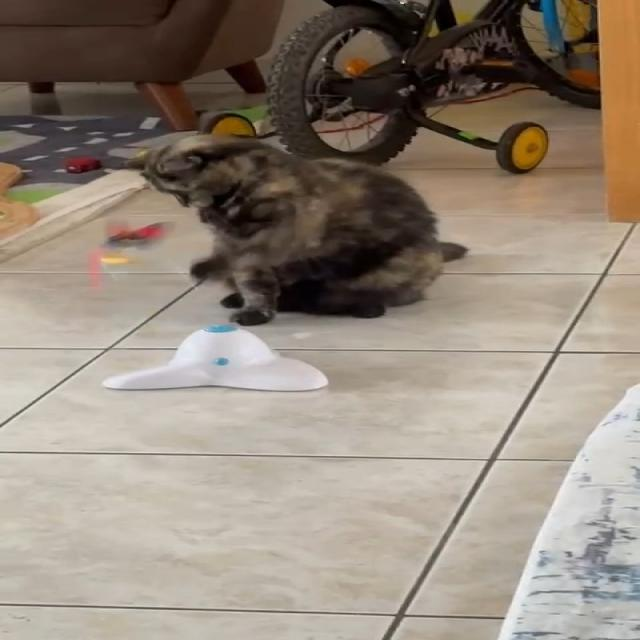authorized: (119, 132, 469, 326)
